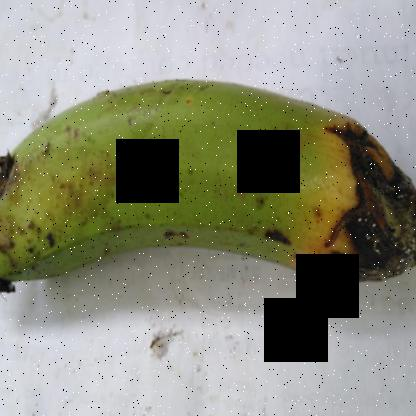rotten: (297, 102, 415, 287)
unripe: (0, 72, 314, 308)
